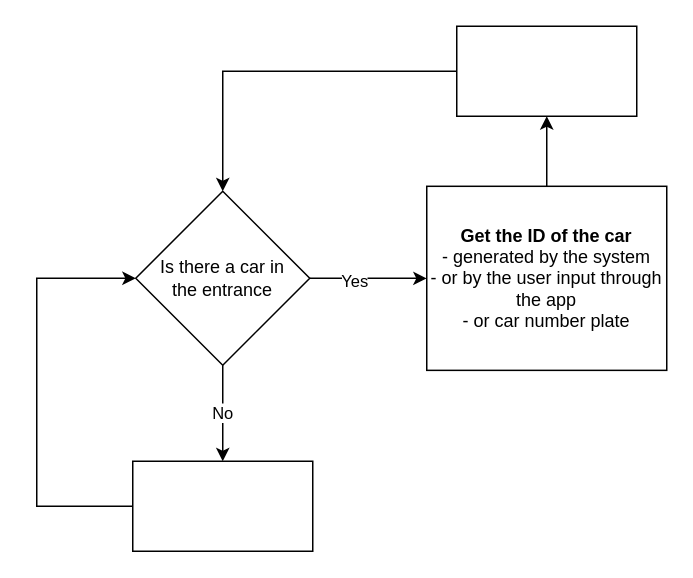
Some shapes in this 693 by 578 pixel diagram are drawn without their labels. The shapes that lost their labels are listed below. From the top down, each one's centre as x and y in pixels, then its label:
At point 546,70: "Wait for the car to park".
At point 222,505: "Show empty park spots counts and their numbers".
